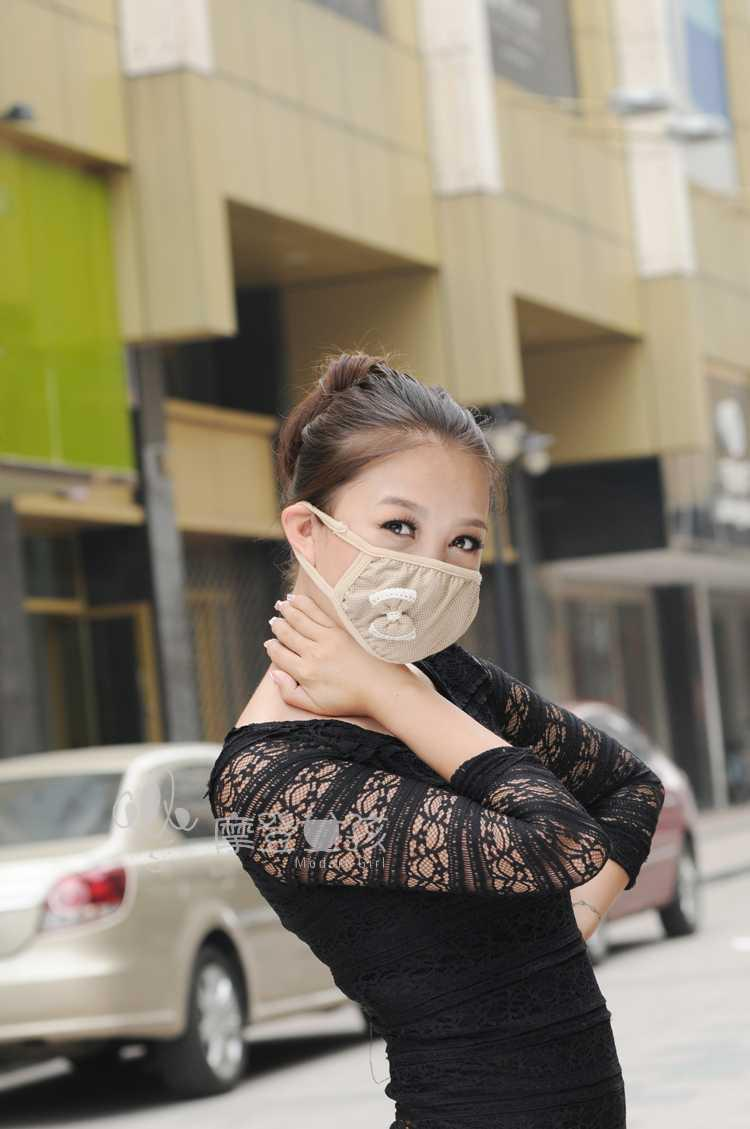OK: (341, 479, 489, 665)
